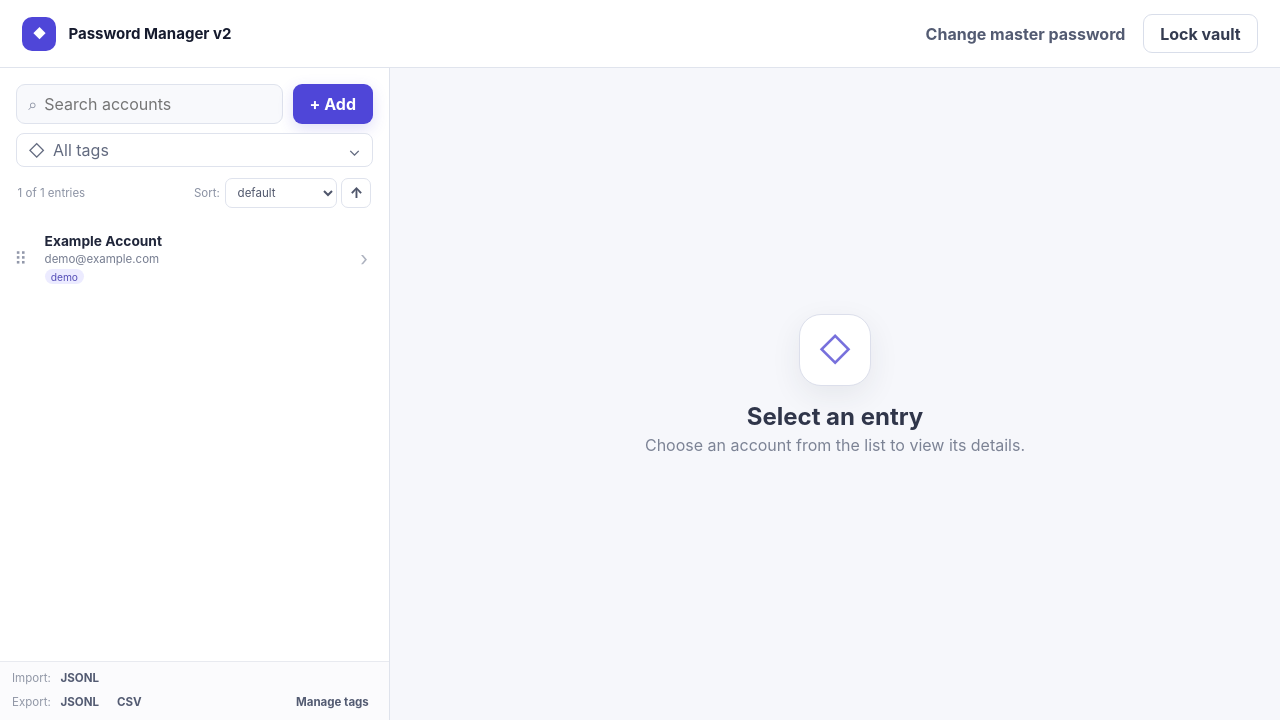
Test case: App › uses account wording in the empty vault and deletion notice
The image size is (1280, 720).
Click the button "Example Account demo@example.com demo ›" at (103, 241), box [33,220,379,297]
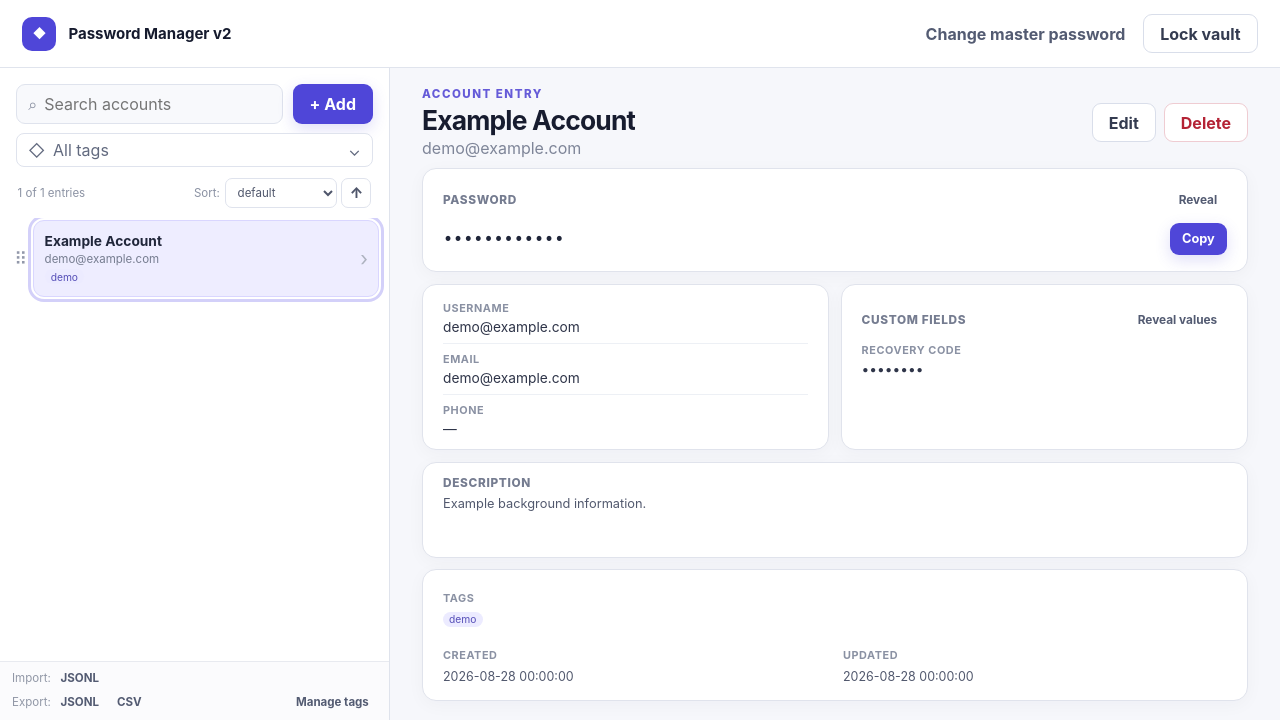
Click the button "Delete" at (1206, 123), box [1164,103,1248,142]
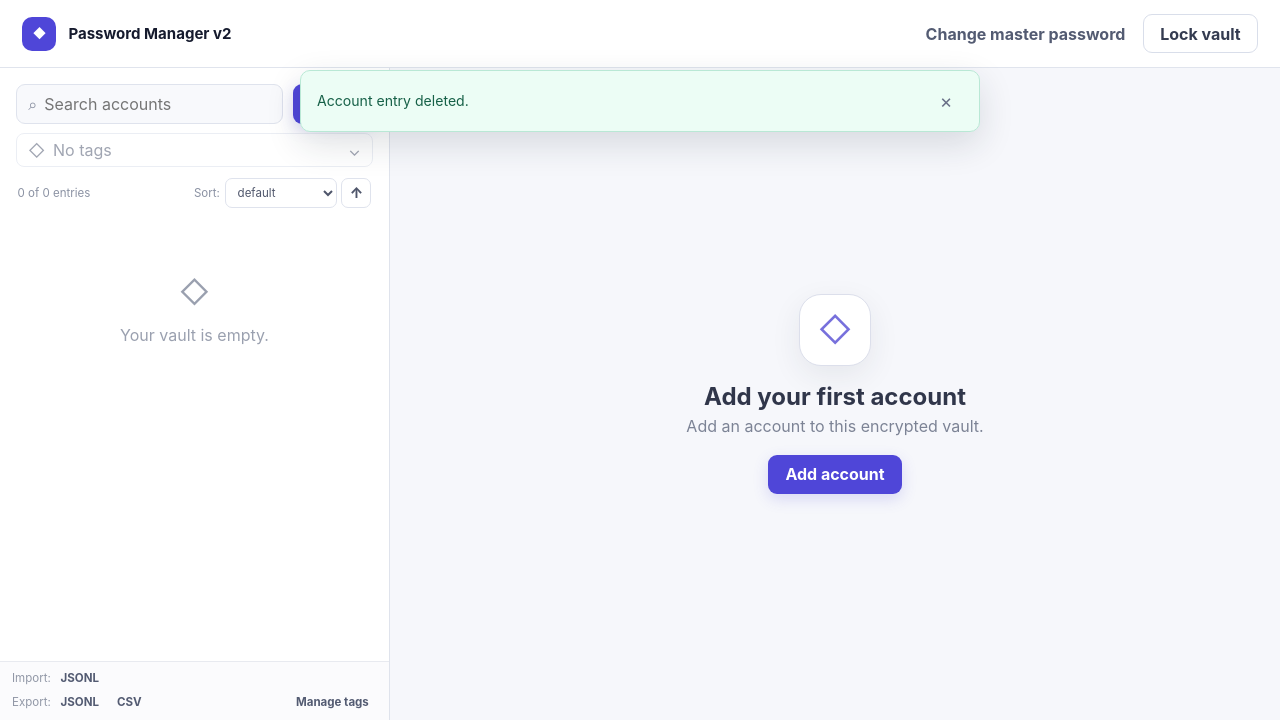
Result: the heading "Add your first account" is shown at [704,382,966,411]
Result: the text "Add an account to this encrypted vault." is shown at [686,416,984,436]
Result: the message shows "Account entry deleted." at [317,92,469,109]
Click the button "Add account" at (835, 474), box [768,455,902,494]
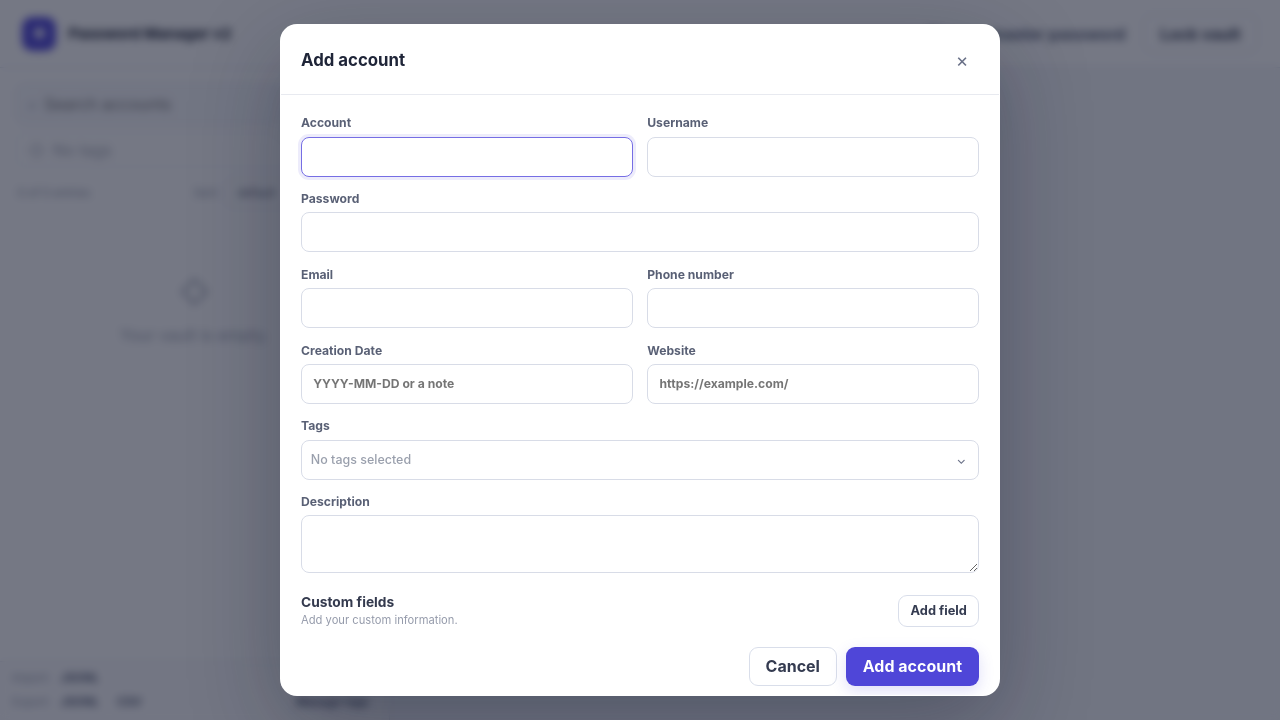
Result: the dialog "Add account" is shown at [280,24,1000,696]
Result: the password field labelled "Password" is shown at [301,212,979,252]
